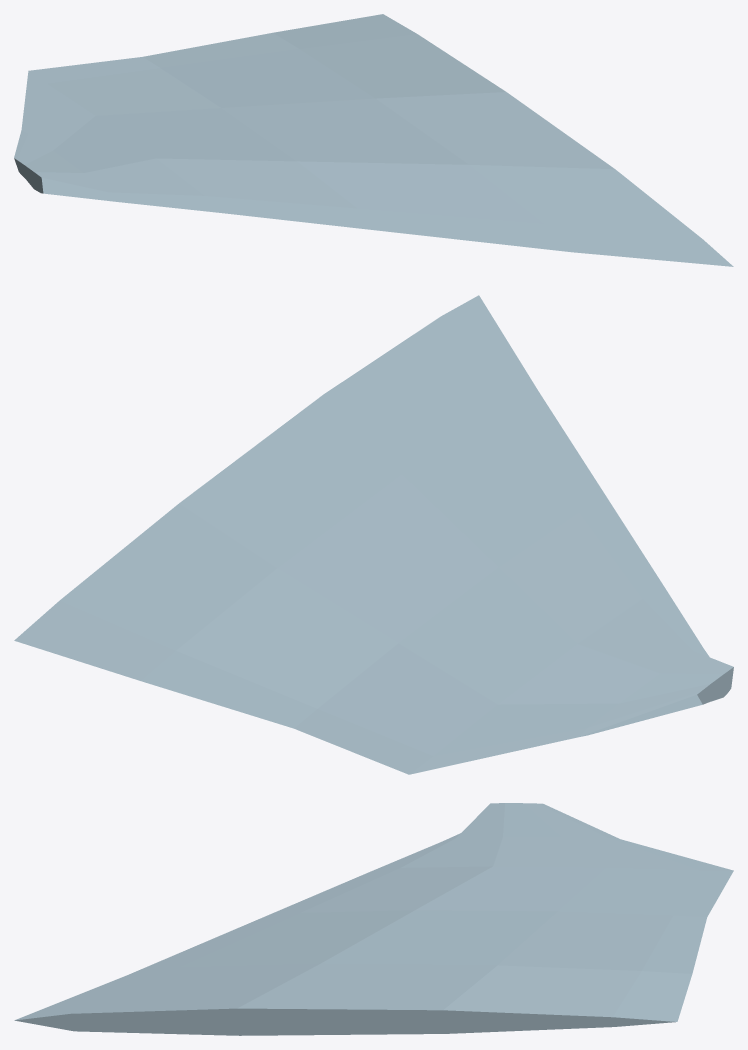
The model's file is su33d_stab_fold_right.glb.
The picture shows the model from 3 angles, top to bottom: view 1: azimuth 30°, elevation 25°; view 2: azimuth 150°, elevation 25°; view 3: azimuth 270°, elevation 25°; orthographic projection. The views are drawn at different scales.
Parts seen in each view (by area): view 1: 0_StabFoldRight; view 2: 0_StabFoldRight; view 3: 0_StabFoldRight.
Boxes of the visible parts, x1,y1,x2,y2 form: 0_StabFoldRight: [14, 14, 733, 266]; 0_StabFoldRight: [14, 295, 733, 774]; 0_StabFoldRight: [14, 803, 733, 1035].
Size of the model in its own units: 2.09 by 0.1357 by 3.11.
